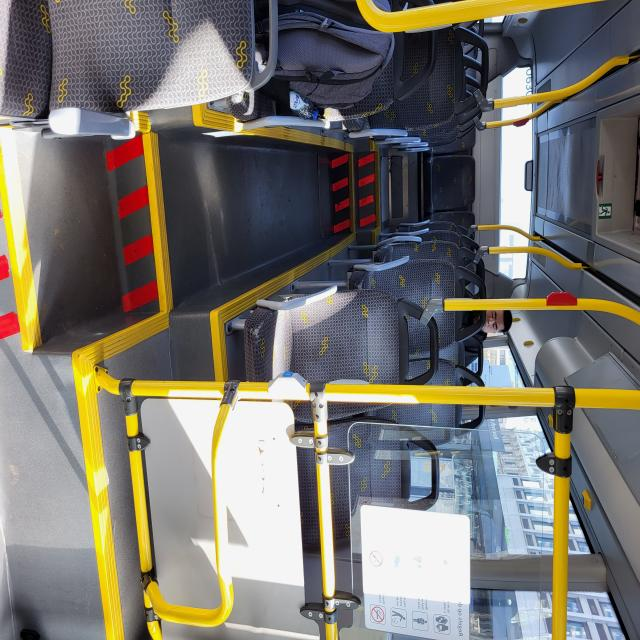asiento-libre: (369, 264, 477, 534), (458, 239, 563, 438), (171, 213, 267, 369), (161, 327, 249, 495), (160, 474, 248, 640), (358, 211, 424, 426), (380, 206, 446, 325), (339, 212, 370, 333), (274, 212, 319, 290), (249, 222, 277, 283), (317, 223, 336, 284)
